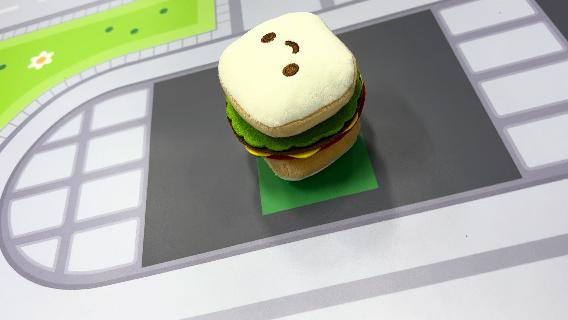sandwich: (216, 10, 368, 182)
